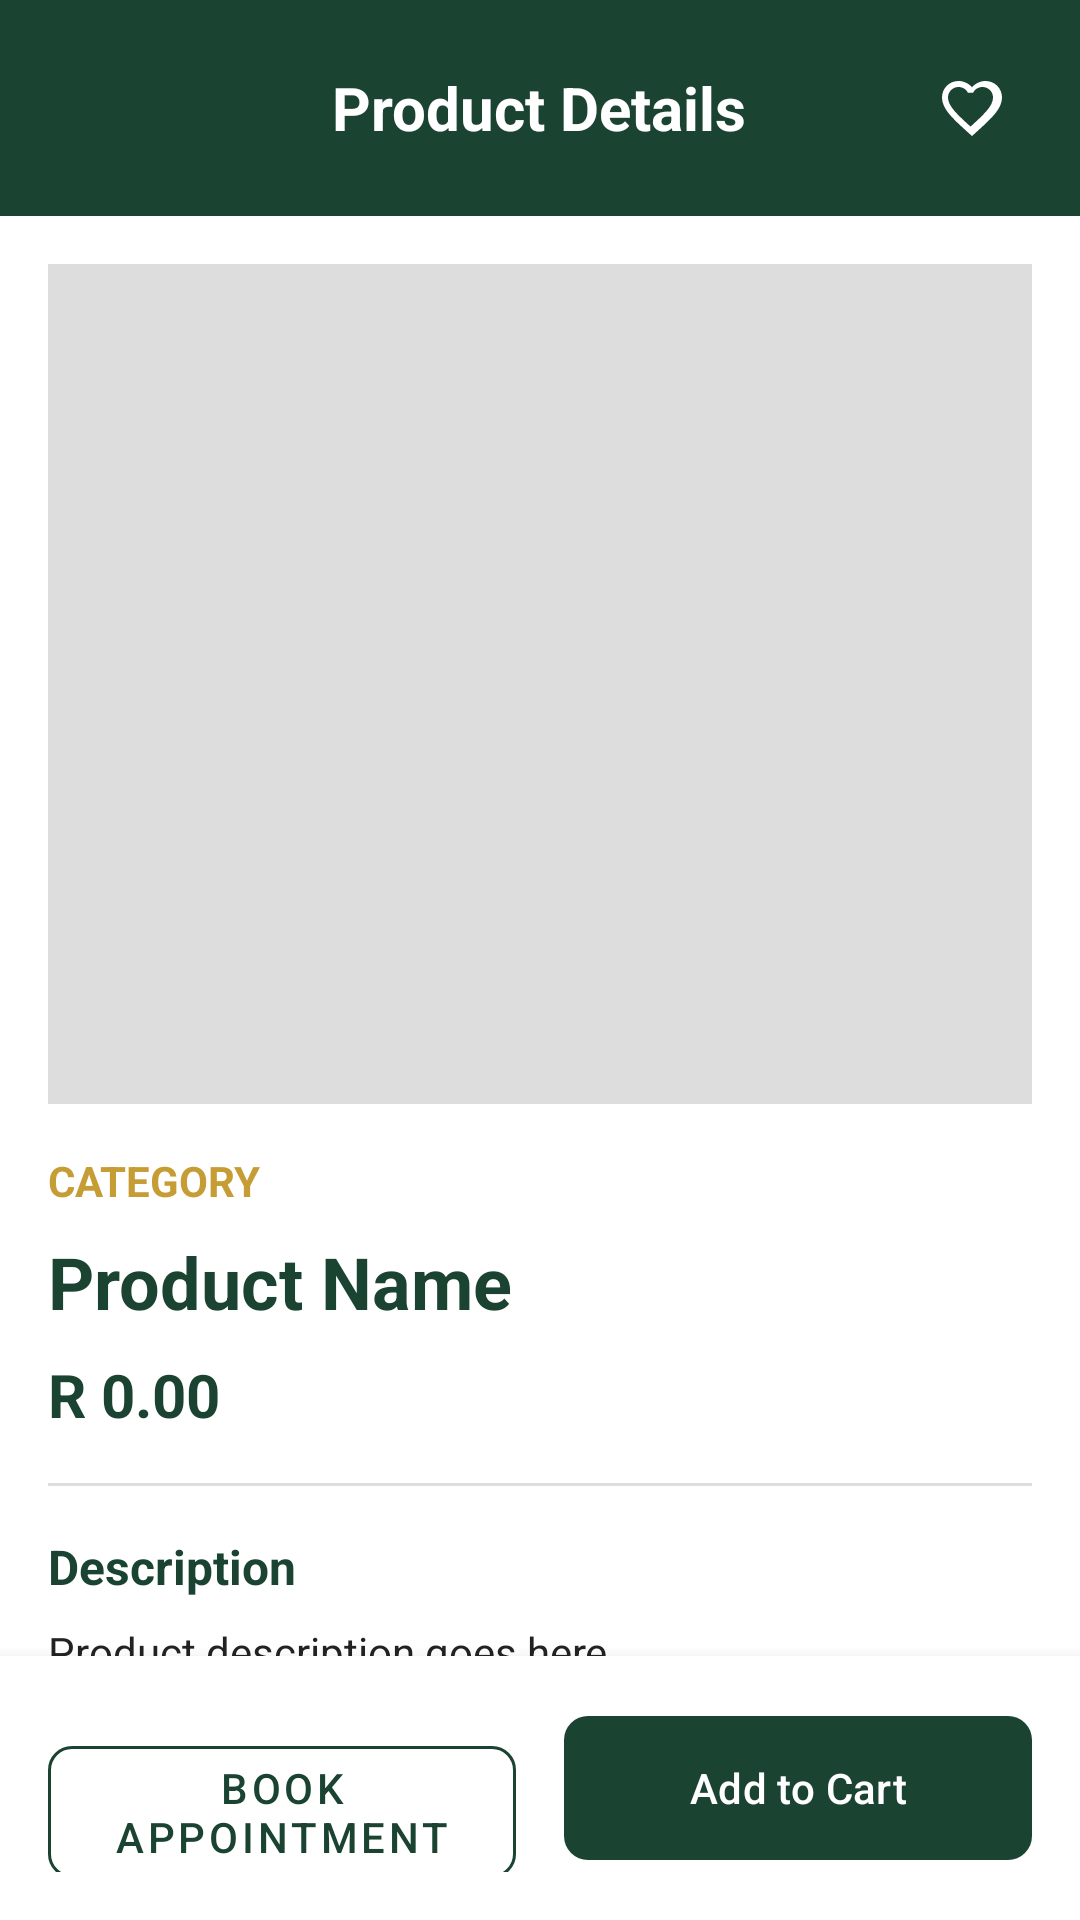

Where to tap for icons on this 1080*1920 app screen, as point (x, y):
Wishlist: point (972, 108)
